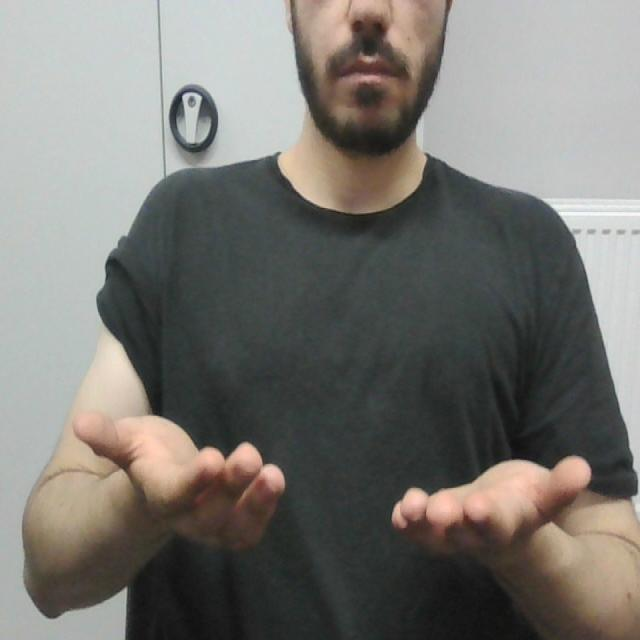Evet: (69, 406, 593, 575)
